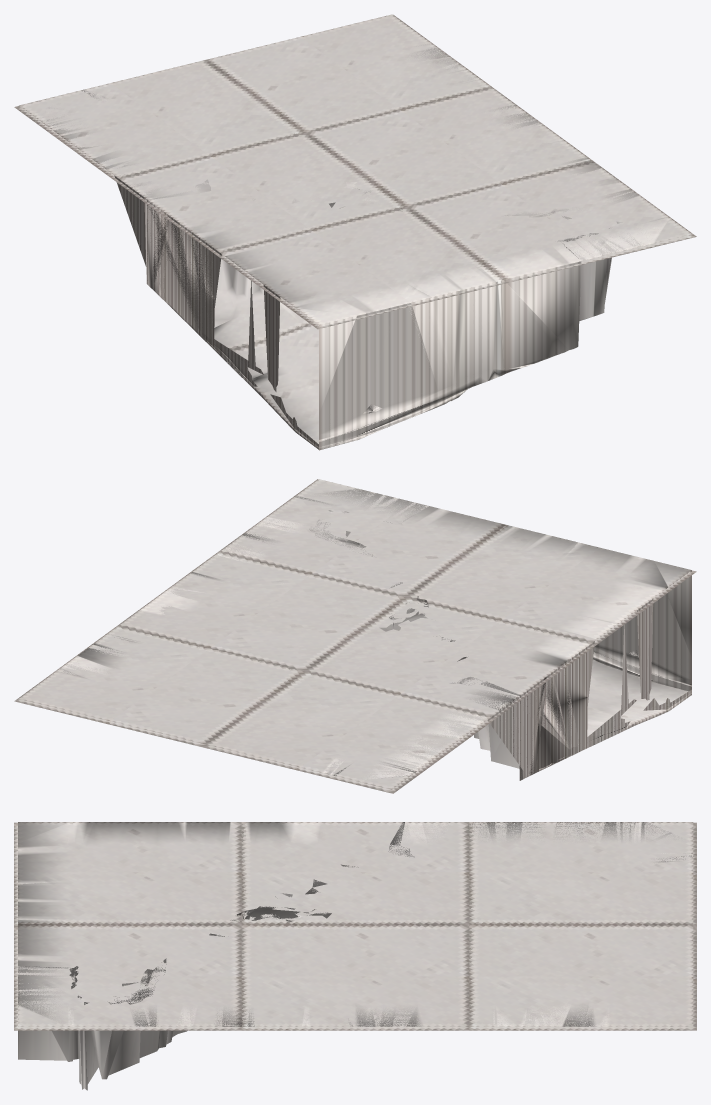
The model's file is FloorTileWhite.locked.glb.
3 views of the same model, one above another, from view 1: azimuth 30°, elevation 25°; view 2: azimuth 150°, elevation 25°; view 3: azimuth 270°, elevation 25° (orthographic). The views are drawn at different scales.
Visible parts, largest first — view 1: tripo_part_15; view 2: tripo_part_15; view 3: tripo_part_15.
Boxes of the visible parts, bbox=[...] form: tripo_part_15: bbox=[14, 14, 696, 450]; tripo_part_15: bbox=[14, 479, 696, 793]; tripo_part_15: bbox=[14, 822, 696, 1090].
Bounding box in the file's own units: 0.1079 × 0.034 × 0.1496.
Materials: 1 (1 with a texture image).
